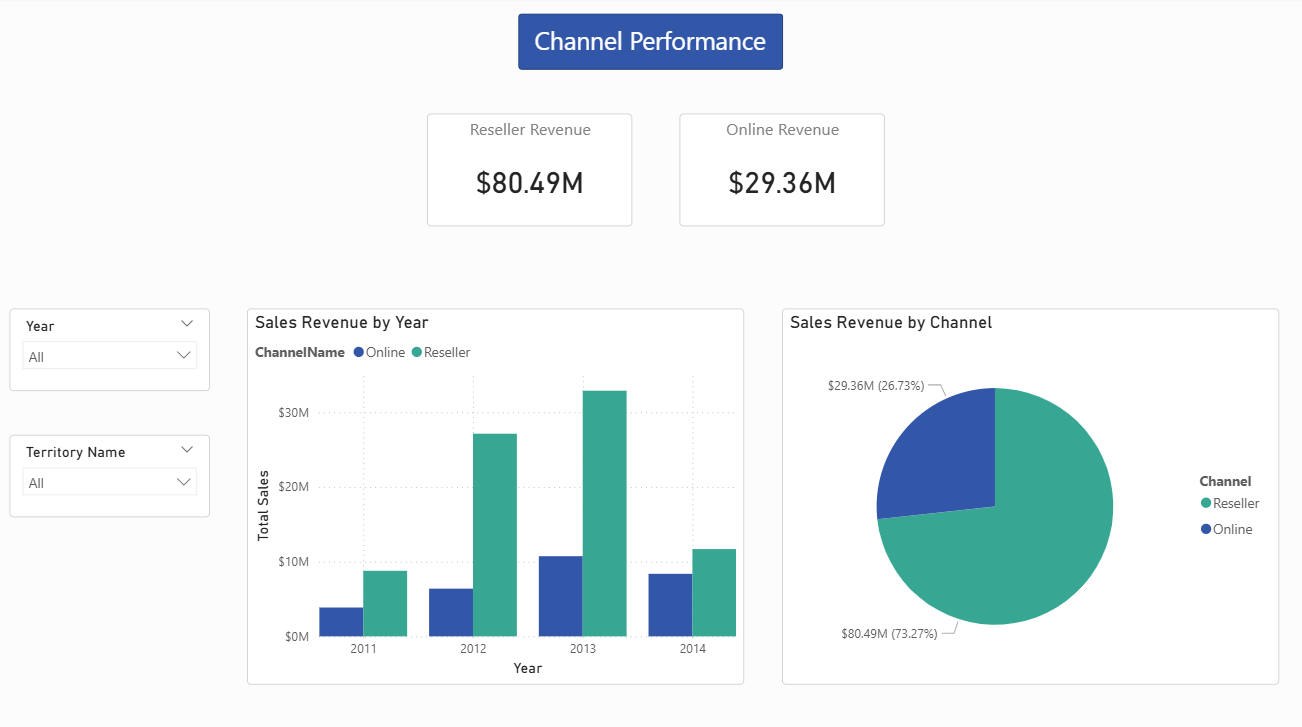

The dashboard page shown, as its layout file describes it:
{"tool":"powerbi","page":{"name":"Channel Performance","canvas":[1280,720],"ordinal":4},"visuals":[{"type":"pieChart","title":"Sales Revenue by Channel","fields":{"Y":["FactSales.Total Sales"],"Category":["DimChannel.ChannelName"]},"box":[767.9,305.7,486.7,368.1],"z":0},{"type":"slicer","fields":{"Values":["DimDate.Year"]},"box":[12.2,305.7,195.7,80.7],"z":1000},{"type":"slicer","fields":{"Values":["DimTerritory.TerritoryName"]},"box":[12.2,429.2,195.7,80.7],"z":2000},{"type":"card","title":"Reseller Revenue","fields":{"Values":["FactSales.Reseller Revenue"]},"box":[420.7,114.9,200.5,110.1],"z":3000},{"type":"card","title":"Online Revenue","fields":{"Values":["FactSales.Online Revenue"]},"box":[667.7,114.9,200.5,110.1],"z":4000},{"type":"clusteredColumnChart","title":"Sales Revenue by Year","fields":{"Category":["DimDate.Year"],"Y":["FactSales.Total Sales"],"Series":["DimChannel.ChannelName"]},"box":[244.6,305.7,486.7,368.1],"z":5000},{"type":"shape","box":[509.9,17.1,259.2,55],"z":7000,"group":"g1"},{"type":"textbox","box":[520.9,22,237.2,46.5],"z":8000,"group":"g1"},{"type":"group","id":"g1","title":"Group 1","box":[509.9,17.1,259.2,55],"z":8001}]}

Visuals, with their boxes in screenshot pixels (x1, y1, x2, y2), scaled from the page's 1280x720 canvas onto the 1302x727 screenshot:
"Sales Revenue by Channel" pieChart: 781/309/1276/680
slicer - DimDate.Year: 12/309/211/390
slicer - DimTerritory.TerritoryName: 12/433/211/515
"Reseller Revenue" card: 428/116/632/227
"Online Revenue" card: 679/116/883/227
"Sales Revenue by Year" clusteredColumnChart: 249/309/744/680
shape: 519/17/782/73
textbox: 530/22/771/69
"Group 1" group: 519/17/782/73
